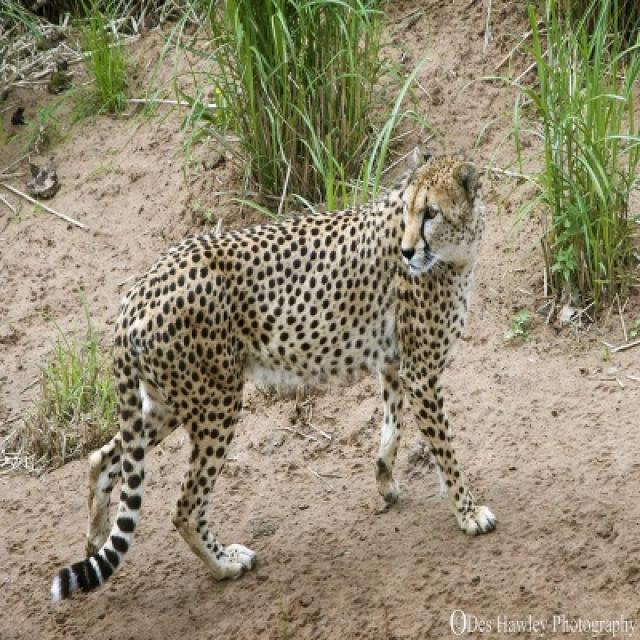Cheetah: (50, 158, 488, 600)
